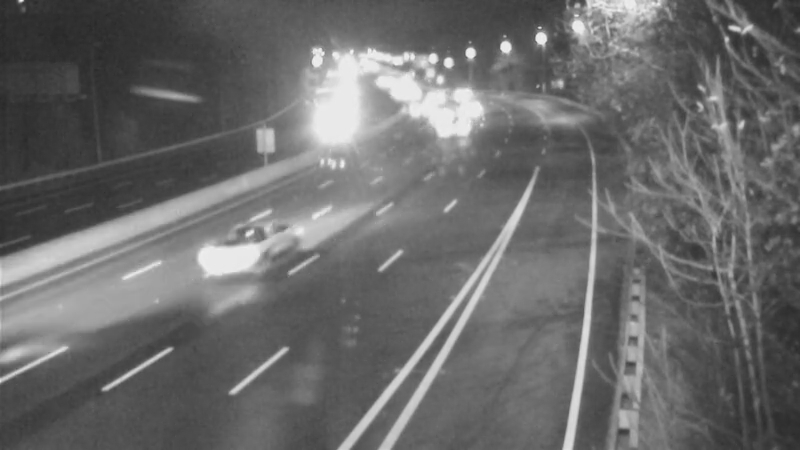vehicle: (189, 212, 269, 292), (432, 65, 482, 115), (407, 73, 457, 123), (444, 80, 494, 130), (397, 82, 447, 132), (419, 86, 469, 136), (430, 102, 480, 152)
